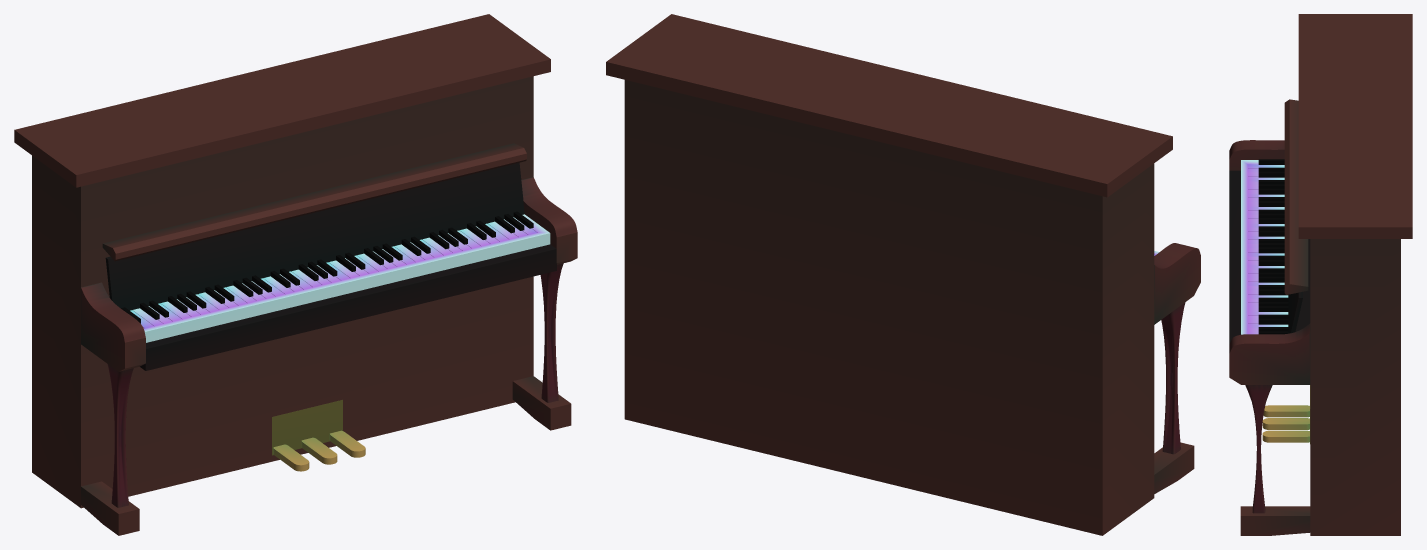
3 views of the same model, side by side, from view 1: azimuth 30°, elevation 25°; view 2: azimuth 150°, elevation 25°; view 3: azimuth 270°, elevation 25° (orthographic). The views are drawn at different scales.
Visible parts, largest first — view 1: cabinet, lid, sloping_panel, keybed, white_keys, ledge, cheek, pedal_mount, cheek.001, support, support.001, foot (+1 smaller); view 2: cabinet, lid, cheek, support, foot; view 3: cabinet, lid, cheek.001, white_keys, ledge, keybed, foot.003, support.001, cheek, pedal.003, pedal.001, pedal.002 (+1 smaller).
Boxes of the visible parts, x1,y1,x2,y2 form: cabinet: [32, 76, 533, 508]; lid: [14, 14, 550, 187]; sloping_panel: [105, 162, 524, 310]; keybed: [132, 223, 556, 370]; white_keys: [130, 214, 550, 342]; ledge: [102, 143, 526, 261]; cheek: [81, 282, 145, 371]; pedal_mount: [272, 400, 342, 455]; cheek.001: [521, 177, 577, 264]; support: [107, 364, 133, 507]; support.001: [540, 263, 563, 402]; foot: [81, 481, 139, 535]; cabinet: [624, 80, 1154, 535]; lid: [606, 14, 1172, 197]; cheek: [1154, 243, 1200, 324]; support: [1161, 302, 1185, 454]; foot: [1154, 442, 1194, 493]; cabinet: [1310, 239, 1400, 535]; lid: [1298, 14, 1412, 238]; cheek.001: [1229, 323, 1310, 384]; white_keys: [1241, 160, 1288, 334]; ledge: [1284, 99, 1308, 294]; keybed: [1229, 170, 1310, 343]; foot.003: [1240, 506, 1310, 535]; support.001: [1245, 385, 1272, 513]; cheek: [1229, 140, 1284, 170]; pedal.003: [1262, 430, 1309, 442]; pedal.001: [1263, 405, 1309, 417]; pedal.002: [1262, 418, 1309, 429].
Bounding box in the file's own units: 1.5 × 1.03 × 0.5445.
